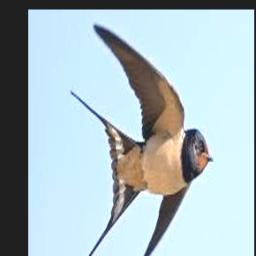Swallow: (71, 23, 213, 256)
